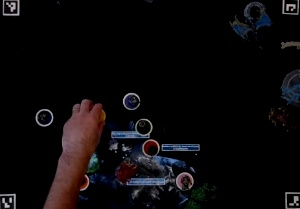blue: (33, 104, 54, 128)
green: (133, 117, 152, 135)
orange: (72, 172, 90, 193)
pink: (170, 168, 196, 192)
red: (139, 137, 162, 158)
violet: (120, 90, 141, 112)
yellow: (87, 104, 107, 125)
